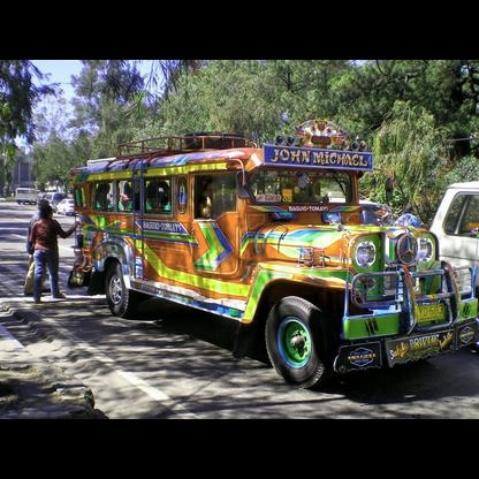jeepney: (68, 122, 479, 390)
